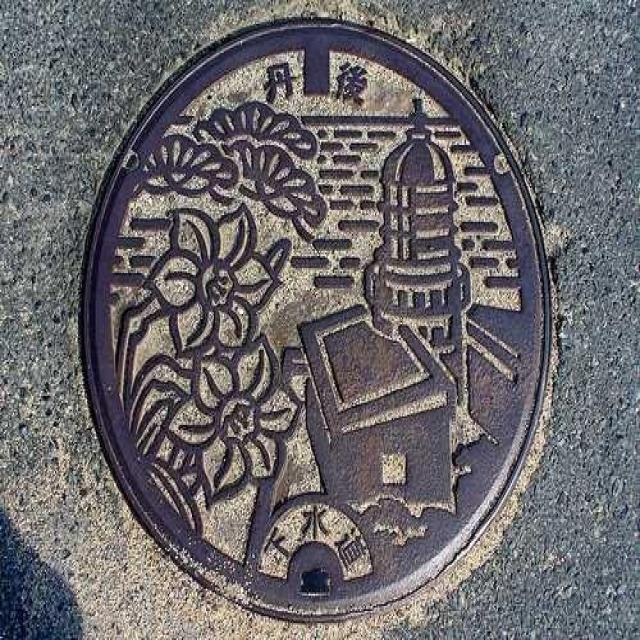manhole: (82, 20, 550, 620)
